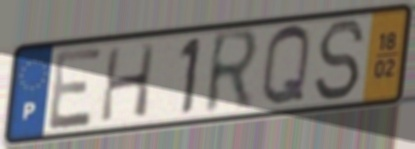1: (178, 34, 205, 119)
E: (46, 44, 105, 133)
H: (98, 41, 159, 125)
Q: (259, 23, 314, 111)
R: (202, 25, 264, 120)
S: (312, 17, 368, 104)
